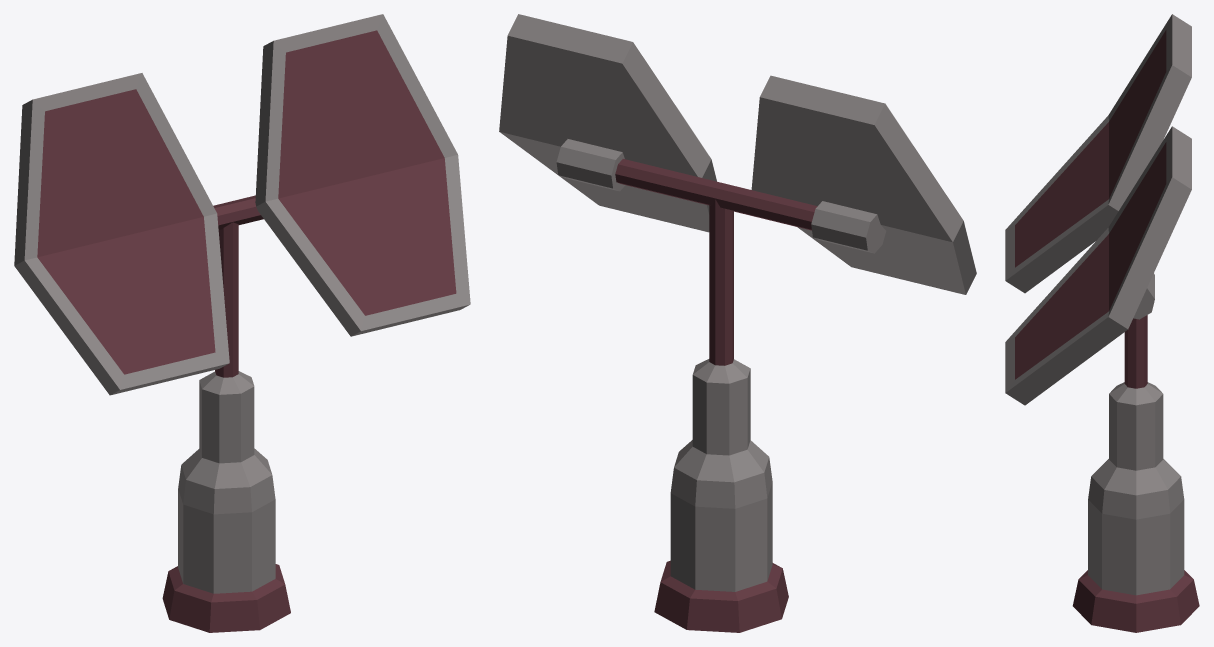
File: scifi-solar-panel-wings.fbx
3 renders of one model, left to right at view 1: azimuth 30°, elevation 25°; view 2: azimuth 150°, elevation 25°; view 3: azimuth 270°, elevation 25°, orthographic. The views are drawn at different scales.
Visible parts, largest first — view 1: scifi-solar-panel-wings; view 2: scifi-solar-panel-wings; view 3: scifi-solar-panel-wings.
Part boxes in pixels (x1,y1,x2,y2): scifi-solar-panel-wings: (14,14,470,632); scifi-solar-panel-wings: (499,14,976,632); scifi-solar-panel-wings: (1005,14,1199,632).
Bounding box in the file's own units: 1.99 × 2.34 × 0.808.
